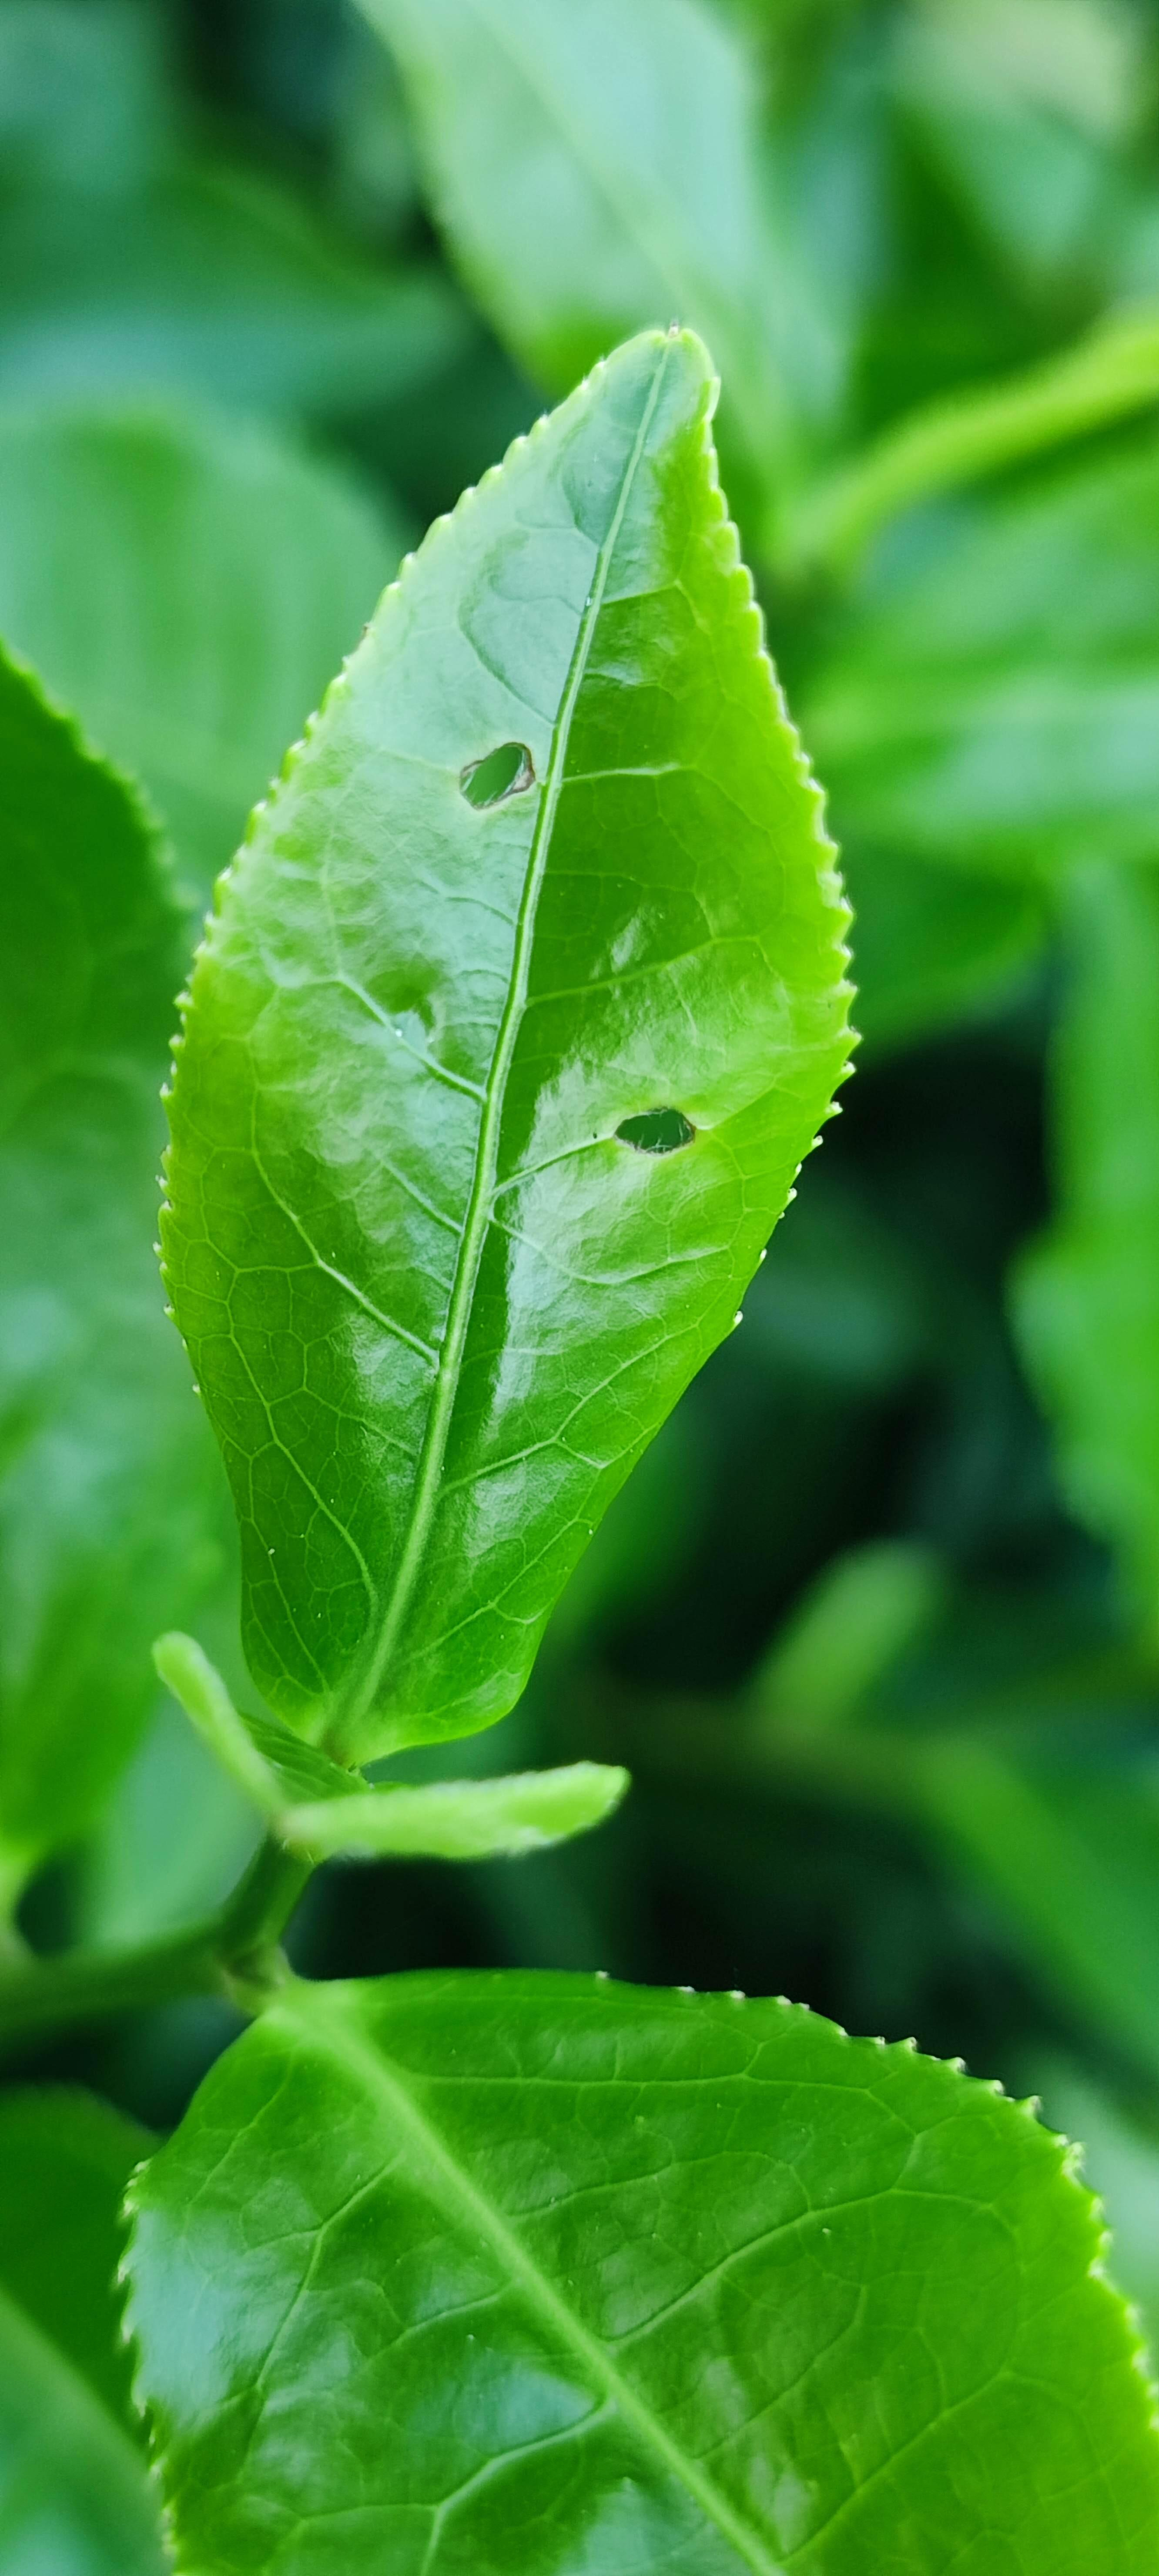chihuo_high: (153, 325, 862, 1769)
healthy: (108, 1962, 1152, 2571)
